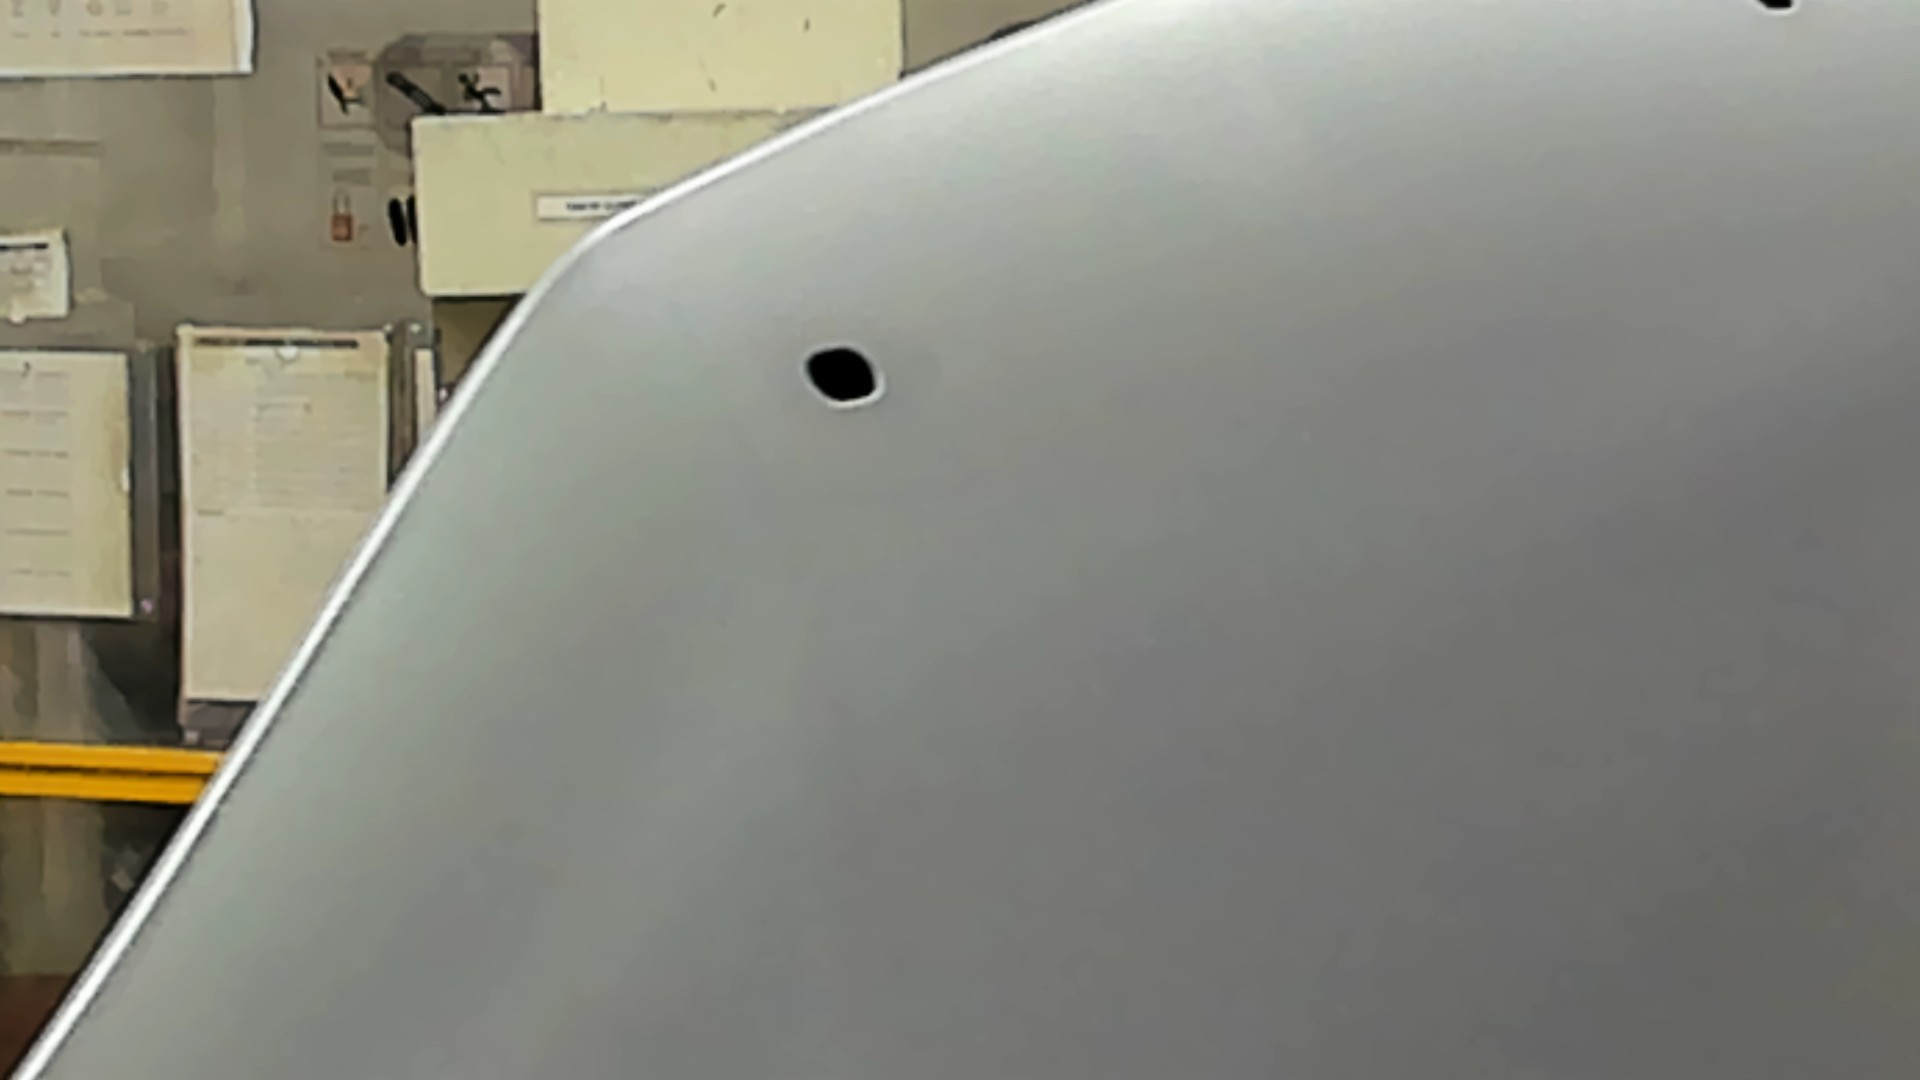amorfo: (800, 342, 886, 410)
capo: (1030, 116, 1920, 1080)
